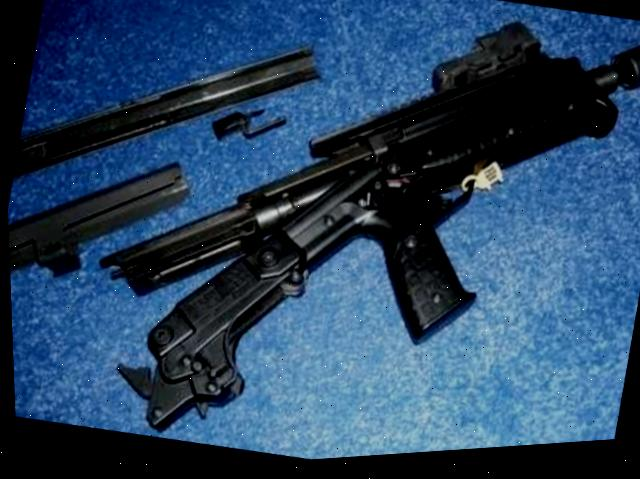rifle: (57, 0, 640, 476)
